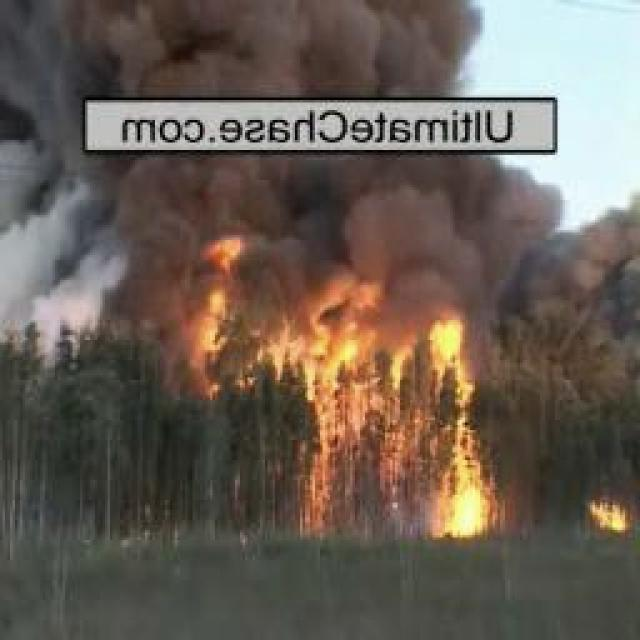Fire: (297, 300, 491, 540), (187, 224, 255, 402), (593, 498, 632, 533)
